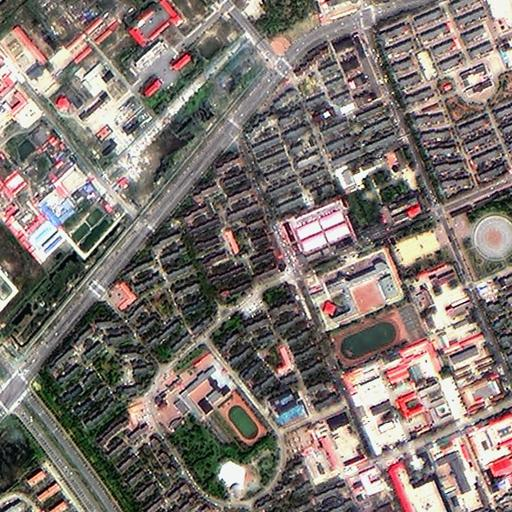school: (300, 243, 429, 371), (171, 341, 271, 454)
